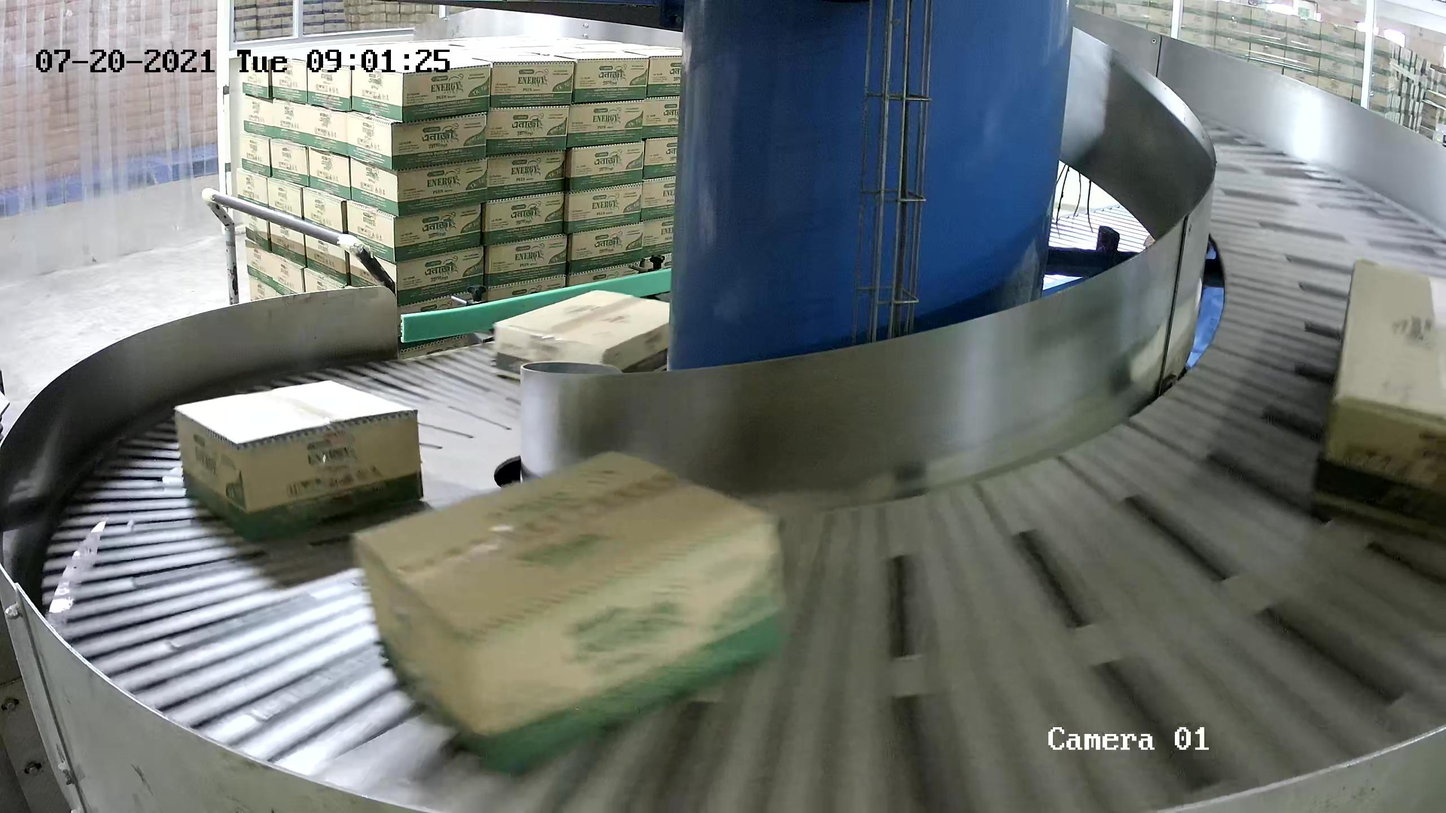Box: (348, 445, 794, 775), (172, 378, 425, 546), (1309, 255, 1446, 541), (492, 287, 670, 389)
